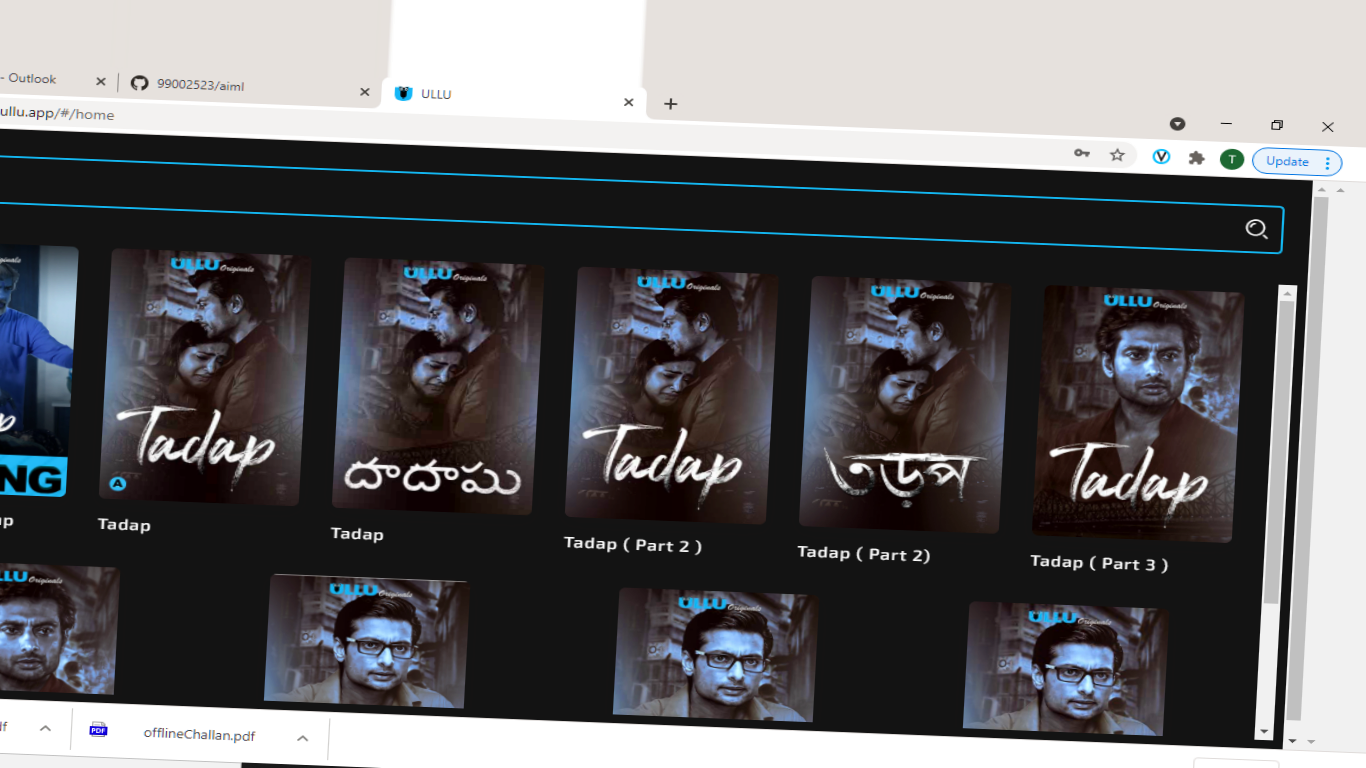searchicon: (1233, 200, 1275, 255)
searchtextbox: (1, 157, 1283, 263)
